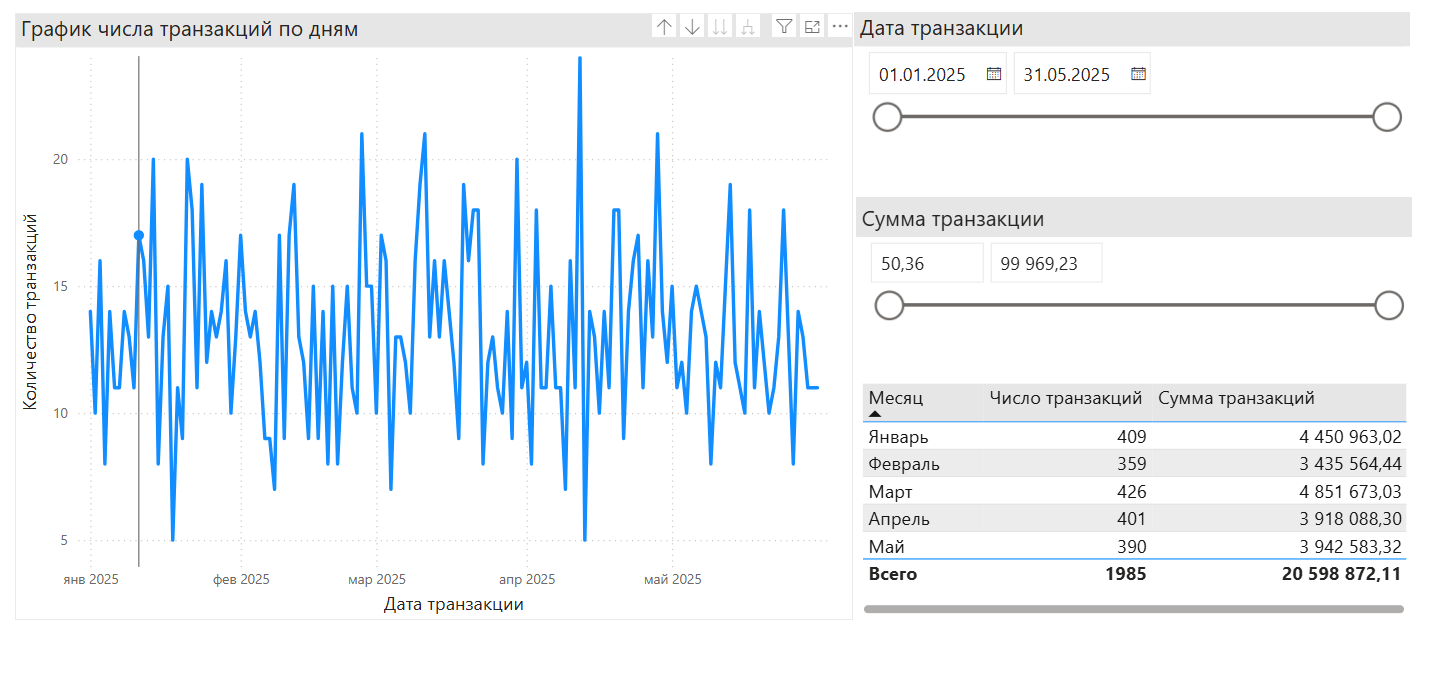

Layout of this report page (visuals, bound fields, positions):
{"tool":"powerbi","page":{"name":"Страница 1","canvas":[1280,720],"ordinal":0},"visuals":[{"type":"actionButton","box":[0,0,100,40],"z":0},{"type":"lineChart","title":"График числа транзакций по дням","fields":{"Y":["CountNonNull(public card_transactions (2).transaction_id)"],"Category":["public card_transactions.transaction_date.Изменение.Иерархия дат.Год","public card_transactions.transaction_date.Изменение.Иерархия дат.Месяц","public card_transactions.transaction_date.Изменение.Иерархия дат.День"]},"box":[23.5,50.5,733.9,532],"z":1000},{"type":"slicer","title":"Дата транзакции","fields":{"Values":["public card_transactions (2).transaction_date"]},"box":[758.3,49.9,487.3,161.6],"z":2000},{"type":"slicer","title":"Сумма транзакции","fields":{"Values":["public card_transactions (2).amount"]},"box":[760.6,211.6,487.3,159.3],"z":3000},{"type":"tableEx","fields":{"Values":["public card_transactions (2).transaction_date.Изменение.Иерархия дат.Месяц","_Меры.Число транзакций","Sum(public card_transactions.amount)"]},"box":[760.6,370.8,487.3,211.6],"z":4000}]}

Visuals, with their boxes on the page's 1280x720 design canvas (x1, y1, x2, y2). These are canvas units, not pixel positions in the 1441x673 screenshot, which may show the page scaled, cropped or inside an application window:
actionButton: [0,0,100,40]
"График числа транзакций по дням" lineChart: [24,50,757,582]
"Дата транзакции" slicer: [758,50,1246,212]
"Сумма транзакции" slicer: [761,212,1248,371]
tableEx - public card_transactions (2).transaction_date.Изменение.Иерархия дат.Месяц x _Меры.Число транзакций: [761,371,1248,582]
